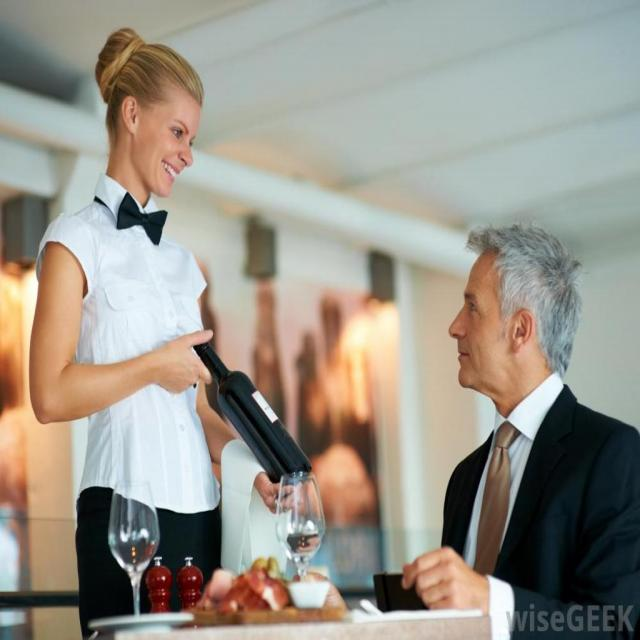nomask: (138, 58, 202, 194), (457, 247, 518, 385)
